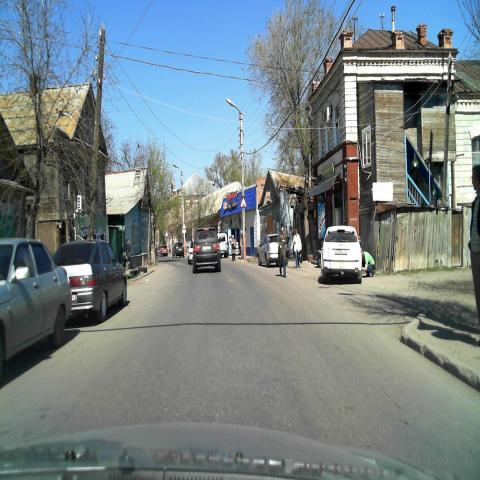1_17: (240, 196, 248, 208)
